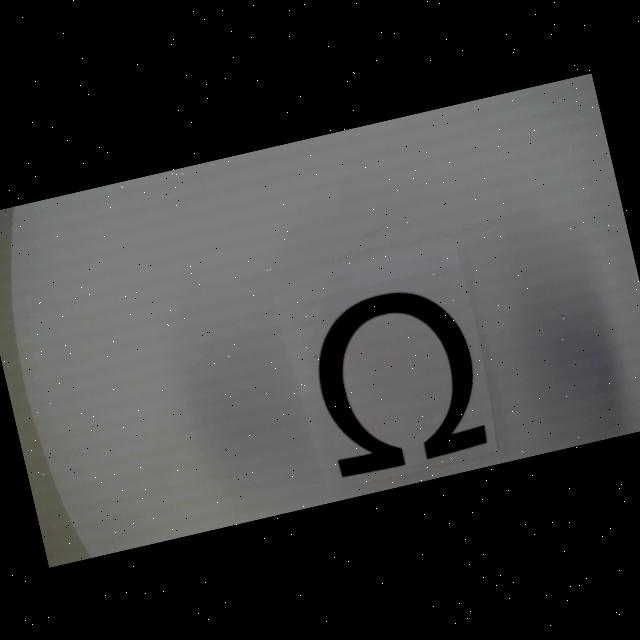OMEGA: (304, 278, 491, 480)
